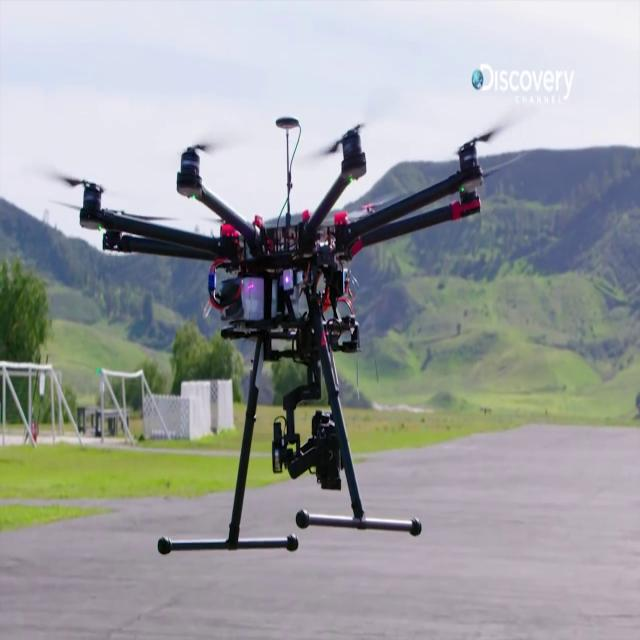drone: (64, 103, 593, 640)
